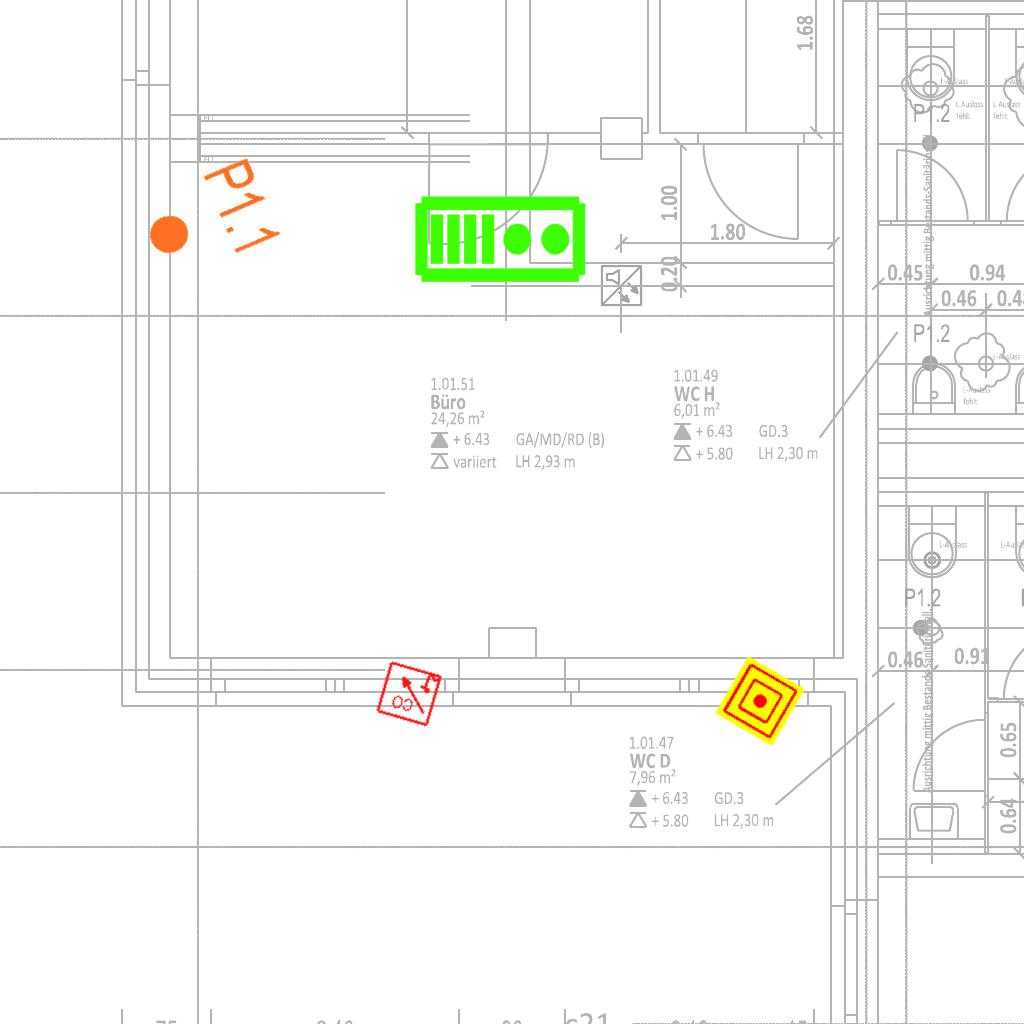Downlight_LED_Einbauleuchten_Flur: (131, 153, 286, 289)
Gegensprechanlage_mit_Video: (413, 190, 589, 285)
NAM-Nichtautomatischer_Melder: (714, 655, 806, 747)
ROA_Rauchmelder_optisch_mit_Signalgeber_(Sockelsirene): (374, 658, 444, 728)
